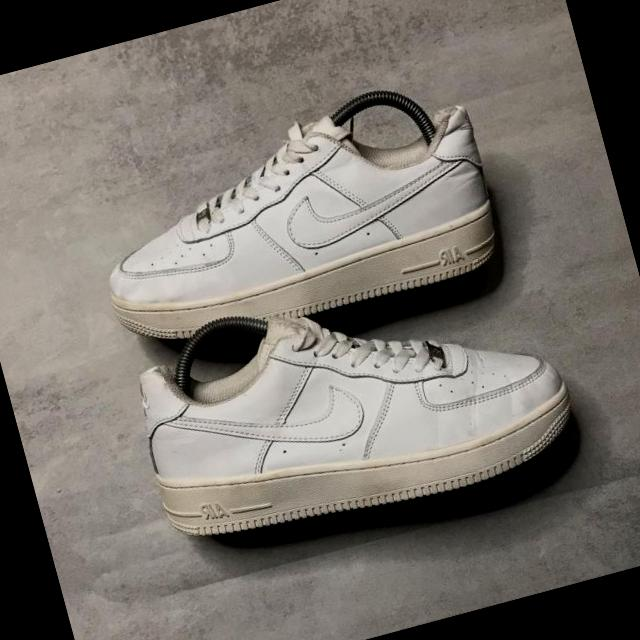nike_fake_airforce: (110, 247, 587, 567), (72, 61, 515, 362)
